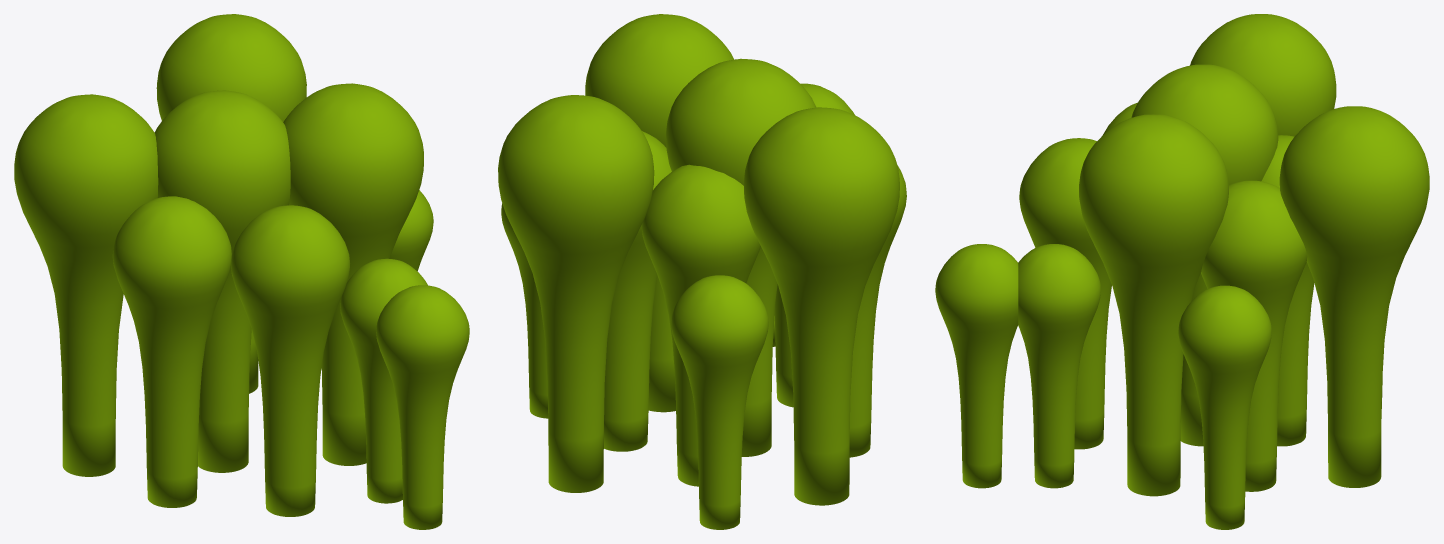
Rendered from l_krzak_maly_4_gesty.fbx.
3 renders of one model, left to right at view 1: azimuth 30°, elevation 25°; view 2: azimuth 150°, elevation 25°; view 3: azimuth 270°, elevation 25°, orthographic. The views are drawn at different scales.
Parts seen in each view (by area): view 1: krzak; view 2: krzak; view 3: krzak.
Part boxes in pixels (x1,y1,x2,y2): krzak: [14, 14, 469, 529]; krzak: [498, 14, 906, 529]; krzak: [935, 14, 1429, 529].
Size of the model in its own units: 3.75 by 4.17 by 3.39.
